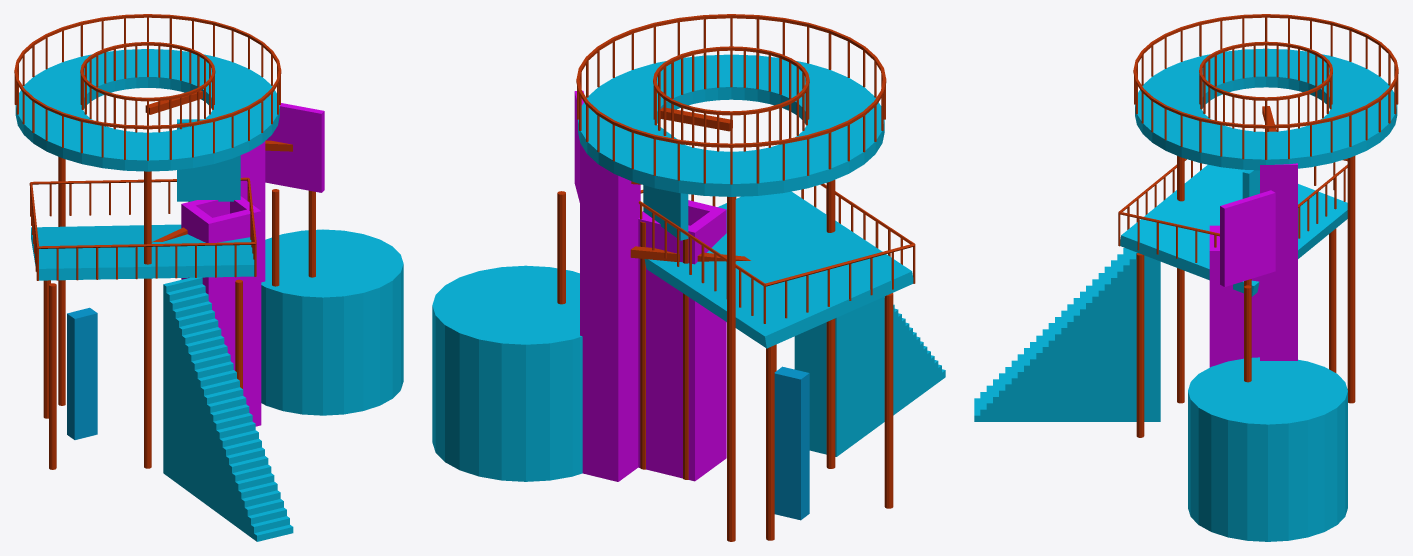
The model's file is folie_tag_041.glb.
3 renders of one model, left to right at view 1: azimuth 30°, elevation 25°; view 2: azimuth 150°, elevation 25°; view 3: azimuth 270°, elevation 25°, orthographic. The views are drawn at different scales.
Parts seen in each view (by area): view 1: folie_tag_041_02_drum, folie_tag_041_line, folie_tag_041_stairs, folie_tag_041_00_ring, folie_tag_041_01_plate, folie_tag_041_03_tower, folie_tag_041_06_panel, folie_tag_041_04_fin, folie_tag_041_05_panel, folie_tag_041_core; view 2: folie_tag_041_line, folie_tag_041_02_drum, folie_tag_041_00_ring, folie_tag_041_01_plate, folie_tag_041_core, folie_tag_041_03_tower, folie_tag_041_stairs, folie_tag_041_04_fin, folie_tag_041_05_panel; view 3: folie_tag_041_02_drum, folie_tag_041_stairs, folie_tag_041_line, folie_tag_041_00_ring, folie_tag_041_01_plate, folie_tag_041_core, folie_tag_041_06_panel, folie_tag_041_03_tower.
Boxes of the visible parts, x1,y1,x2,y2 form: folie_tag_041_02_drum: (261, 229, 403, 415); folie_tag_041_line: (14, 14, 315, 469); folie_tag_041_stairs: (163, 277, 293, 541); folie_tag_041_00_ring: (15, 49, 279, 171); folie_tag_041_01_plate: (31, 224, 254, 280); folie_tag_041_03_tower: (181, 196, 261, 426); folie_tag_041_06_panel: (265, 103, 324, 192); folie_tag_041_04_fin: (67, 307, 97, 439); folie_tag_041_05_panel: (177, 119, 240, 201); folie_tag_041_core: (240, 141, 265, 282); folie_tag_041_line: (557, 14, 915, 541); folie_tag_041_02_drum: (432, 265, 582, 481); folie_tag_041_00_ring: (578, 54, 884, 196); folie_tag_041_01_plate: (644, 191, 913, 348); folie_tag_041_core: (580, 142, 640, 481); folie_tag_041_03_tower: (638, 200, 726, 481); folie_tag_041_stairs: (794, 296, 945, 456); folie_tag_041_04_fin: (774, 366, 809, 520); folie_tag_041_05_panel: (643, 124, 688, 240); folie_tag_041_02_drum: (1188, 357, 1347, 541); folie_tag_041_stairs: (974, 248, 1160, 421); folie_tag_041_line: (1118, 14, 1398, 437); folie_tag_041_00_ring: (1135, 48, 1397, 170); folie_tag_041_01_plate: (1120, 164, 1347, 296); folie_tag_041_core: (1260, 163, 1297, 360); folie_tag_041_06_panel: (1220, 190, 1275, 286); folie_tag_041_03_tower: (1209, 225, 1259, 367).
Size of the model in its own units: 12.64 by 11.27 by 12.29.
